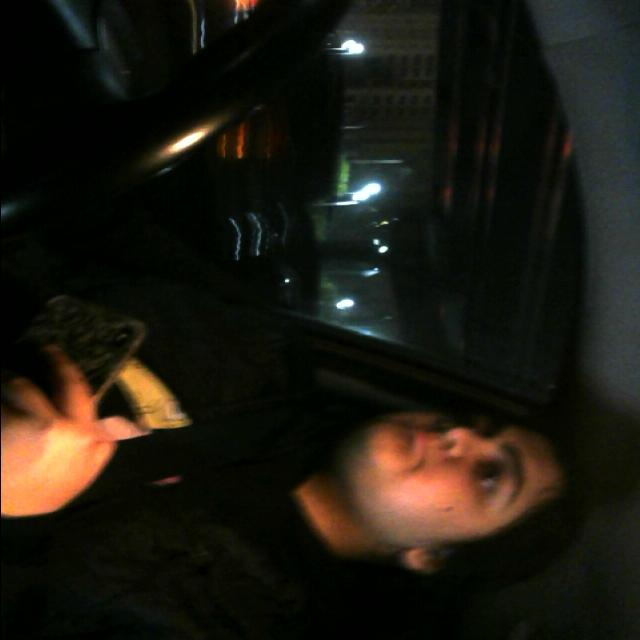mobile use: (0, 274, 156, 426)
